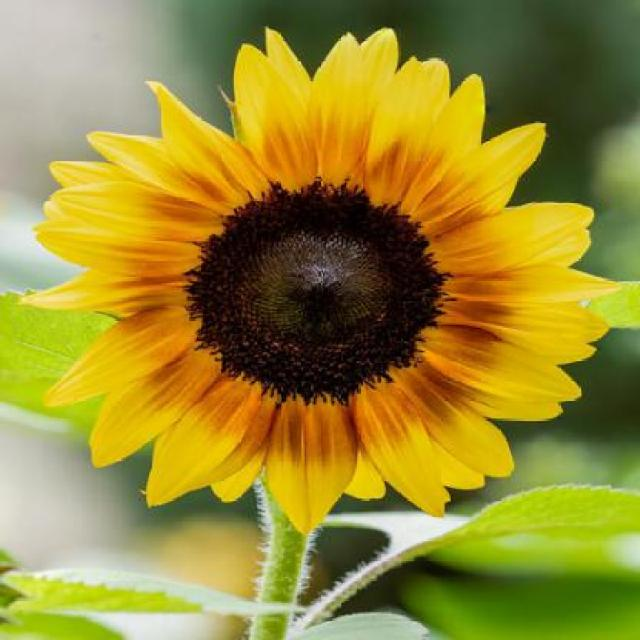sunflower: (39, 32, 633, 550)
